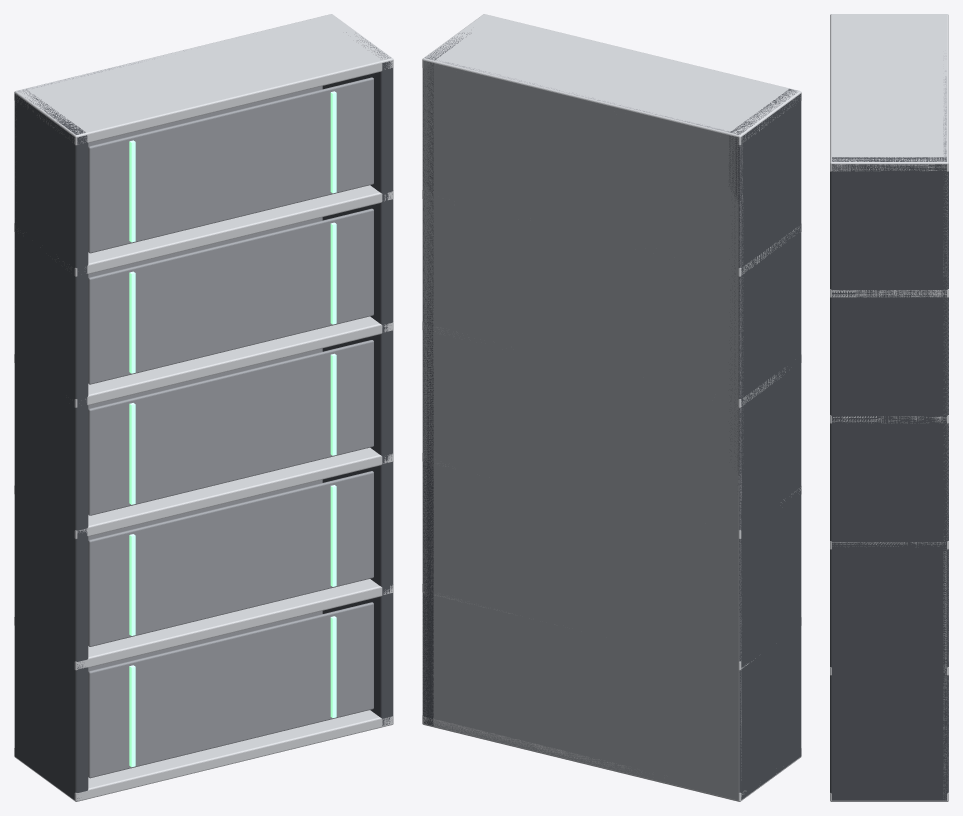
The model's file is bookshelf_slot_tower.glb.
The picture shows the model from 3 angles, left to right: view 1: azimuth 30°, elevation 25°; view 2: azimuth 150°, elevation 25°; view 3: azimuth 270°, elevation 25°; orthographic projection. The views are drawn at different scales.
Visible parts, largest first — view 1: GD_bookshelf_slot_tower__m2, GD_bookshelf_slot_tower__m0, GD_bookshelf_slot_tower__m3, GD_bookshelf_slot_tower__m1; view 2: GD_bookshelf_slot_tower__m2, GD_bookshelf_slot_tower__m0, GD_bookshelf_slot_tower__m3; view 3: GD_bookshelf_slot_tower__m0, GD_bookshelf_slot_tower__m3, GD_bookshelf_slot_tower__m2.
Boxes of the visible parts, x1,y1,x2,y2 form: GD_bookshelf_slot_tower__m2: [15, 50, 373, 778]; GD_bookshelf_slot_tower__m0: [14, 32, 393, 800]; GD_bookshelf_slot_tower__m3: [14, 14, 393, 801]; GD_bookshelf_slot_tower__m1: [129, 91, 336, 767]; GD_bookshelf_slot_tower__m2: [422, 57, 743, 800]; GD_bookshelf_slot_tower__m0: [422, 33, 801, 799]; GD_bookshelf_slot_tower__m3: [422, 14, 801, 801]; GD_bookshelf_slot_tower__m0: [830, 157, 948, 800]; GD_bookshelf_slot_tower__m3: [830, 14, 948, 801]; GD_bookshelf_slot_tower__m2: [943, 56, 948, 799].
Bounding box in the file's own units: 0.95 × 1.9 × 0.32.
